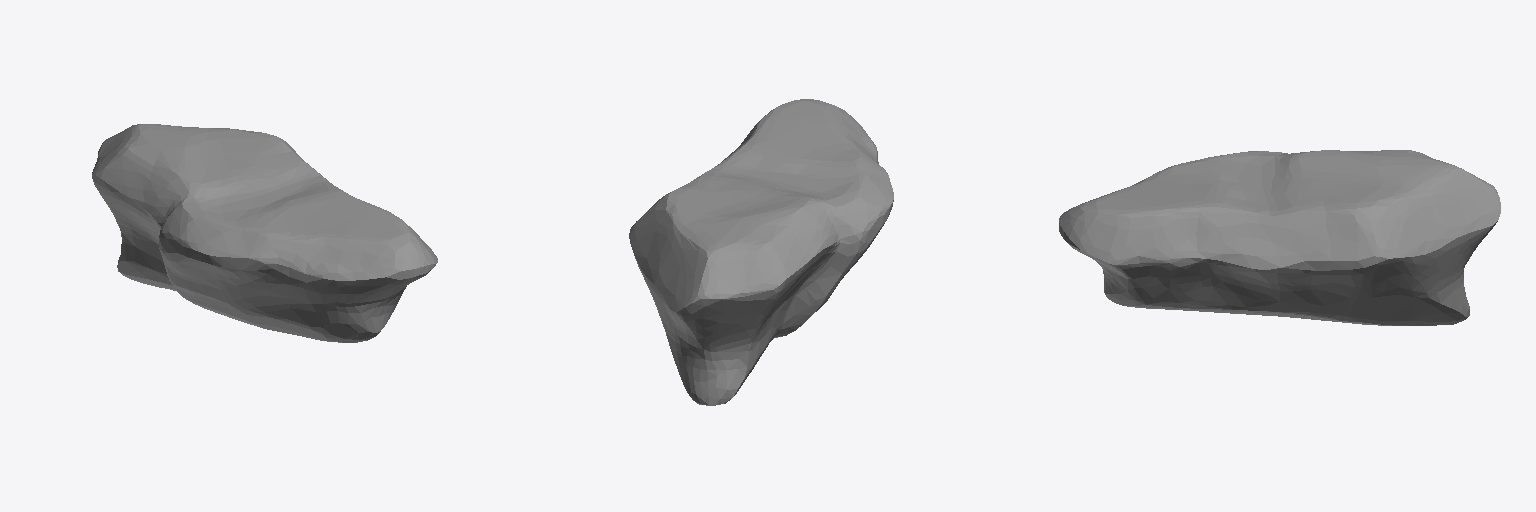
File: Cliff_flatten_02.obj
3 views of the same model, side by side, from view 1: azimuth 30°, elevation 25°; view 2: azimuth 150°, elevation 25°; view 3: azimuth 270°, elevation 25° (orthographic).
Visible parts, largest first — view 1: g Group27958_Group27958; view 2: g Group27958_Group27958; view 3: g Group27958_Group27958.
Boxes of the visible parts, box(x1,y1,x2,y2) form: g Group27958_Group27958: box(92, 124, 437, 342); g Group27958_Group27958: box(629, 99, 893, 405); g Group27958_Group27958: box(1059, 150, 1500, 325).
Bounding box in the file's own units: 0.5182 × 0.4094 × 1.04.